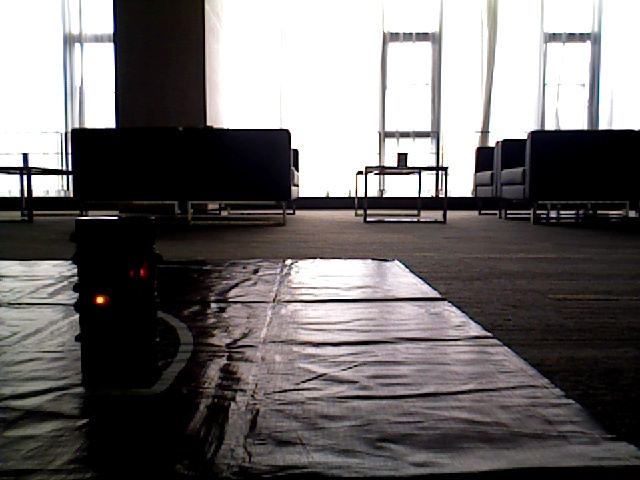yellow: (74, 222, 126, 332)
